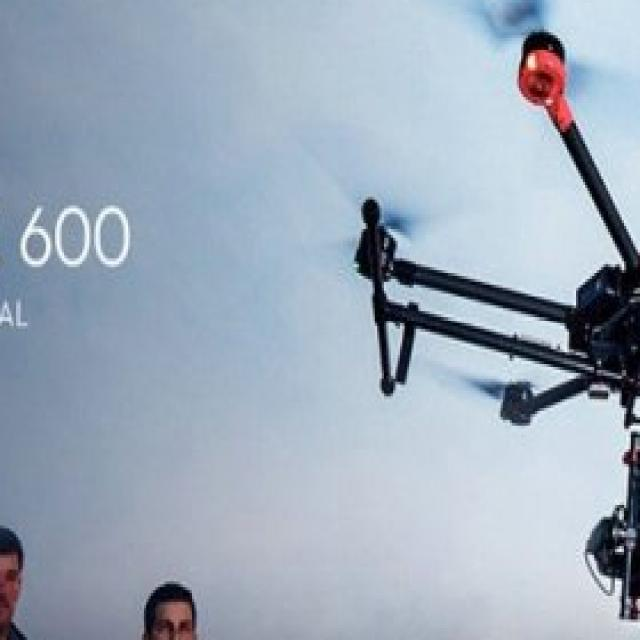drone: (295, 9, 640, 490)
